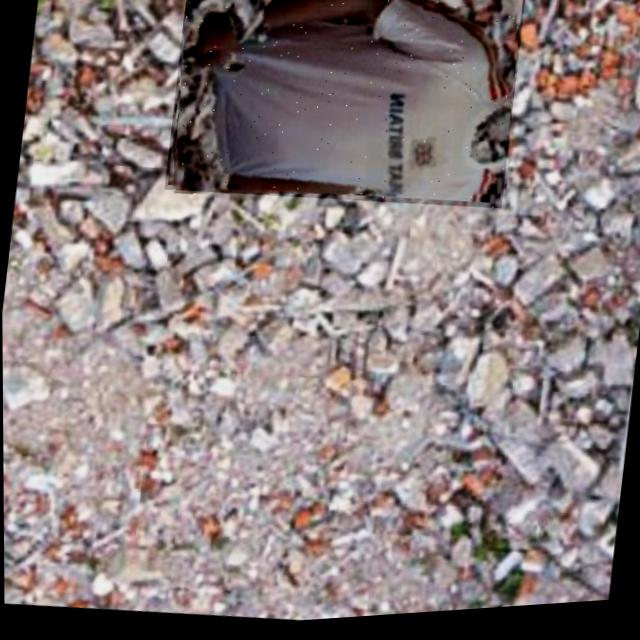Person in Rubble: (161, 0, 525, 233)
